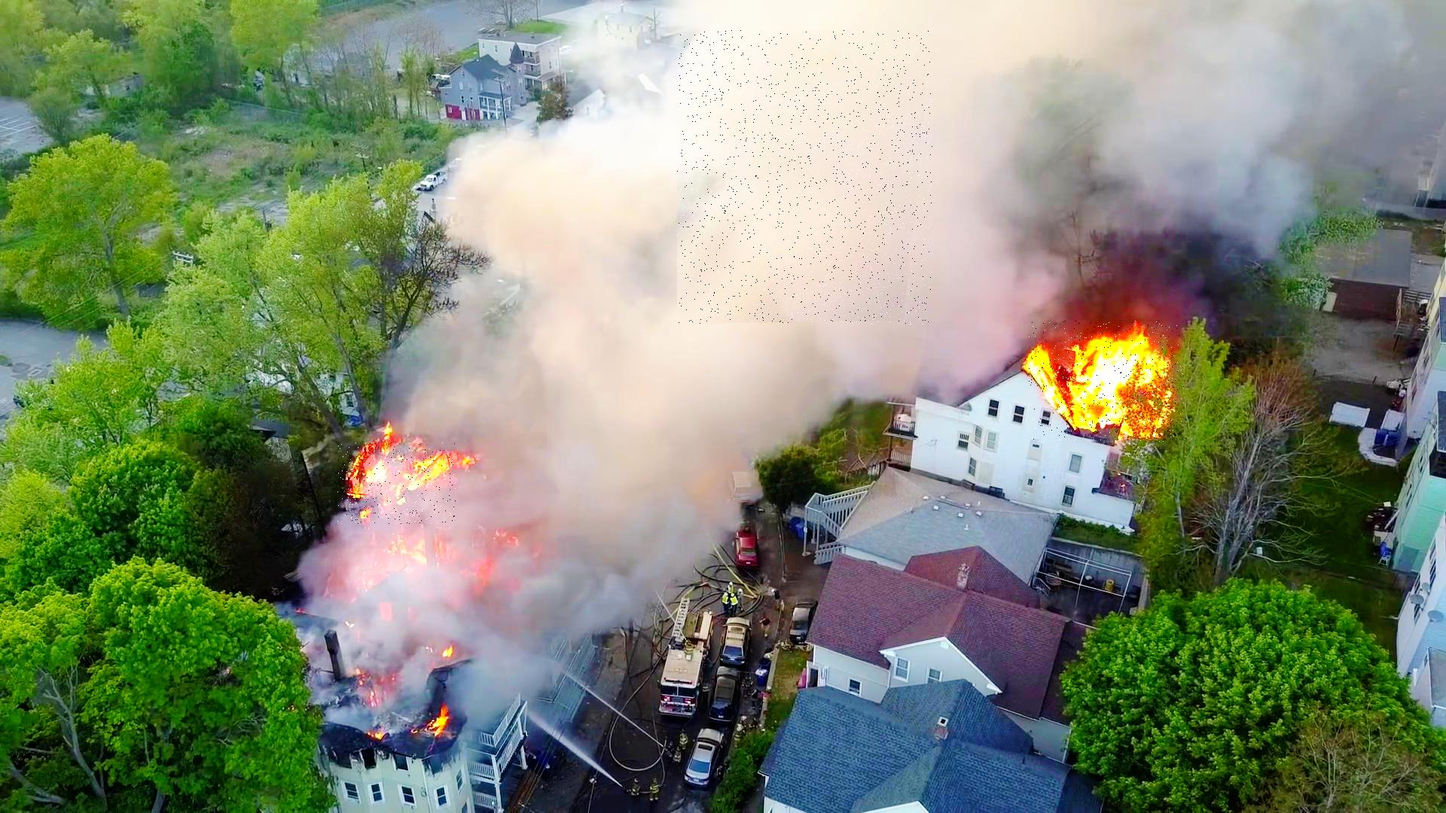fire: (1028, 321, 1185, 443), (338, 443, 456, 524)
smoke: (677, 30, 932, 324)
